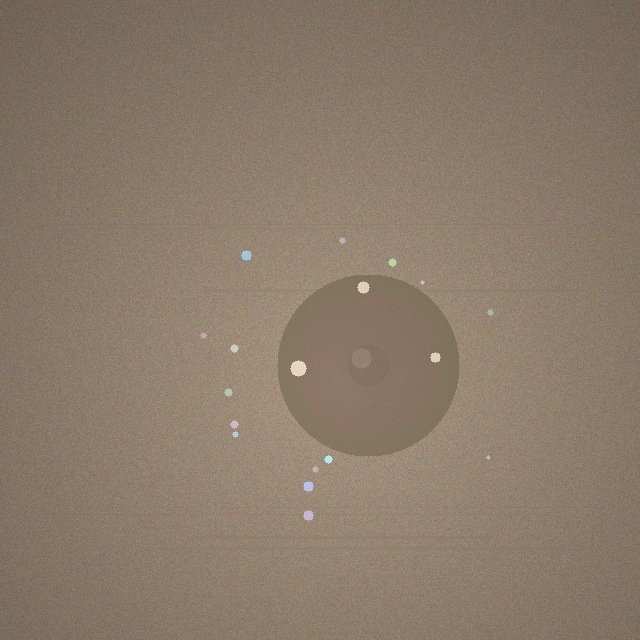overburn: (277, 274, 459, 456)
